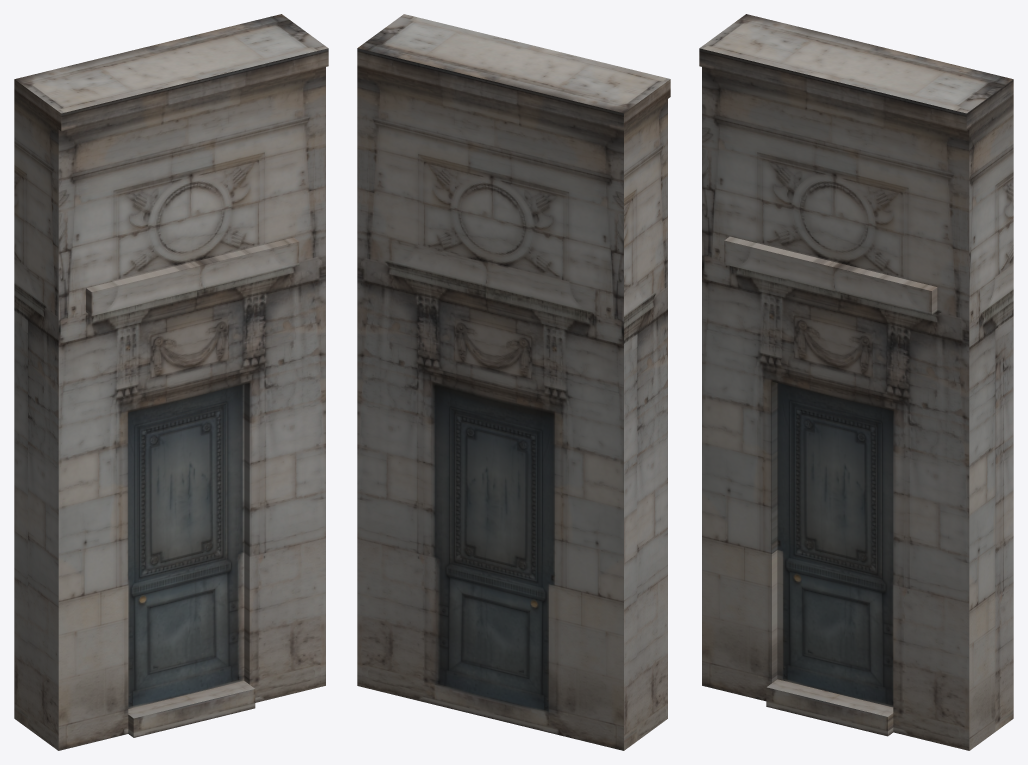
File: Wide_Pillar_With_Door.FBX
3 views of the same model, side by side, from view 1: azimuth 30°, elevation 25°; view 2: azimuth 150°, elevation 25°; view 3: azimuth 330°, elevation 25° (orthographic).
Parts seen in each view (by area): view 1: Wide_Pillar_with_Door; view 2: Wide_Pillar_with_Door; view 3: Wide_Pillar_with_Door.
Boxes of the visible parts, x1,y1,x2,y2 form: Wide_Pillar_with_Door: (14, 14, 328, 750); Wide_Pillar_with_Door: (357, 14, 670, 750); Wide_Pillar_with_Door: (699, 14, 1013, 750).
Size of the model in its own units: 448 by 1024 by 144.
